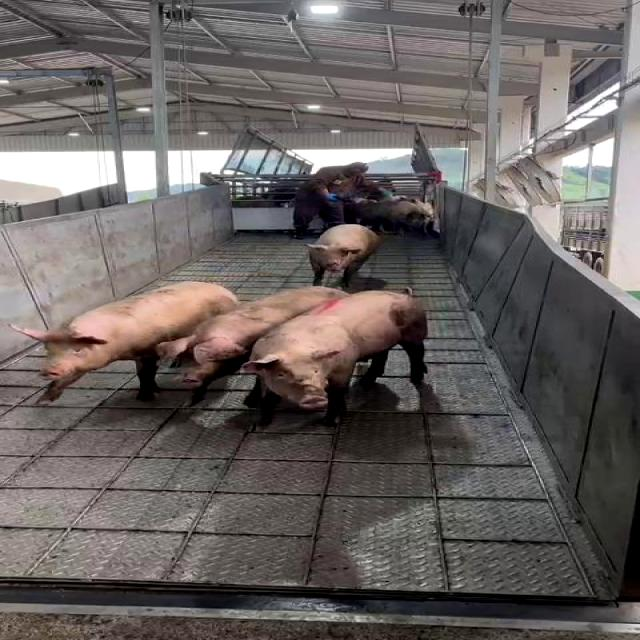pig: (11, 281, 236, 403), (243, 289, 429, 424), (158, 286, 348, 403), (309, 224, 380, 289)
